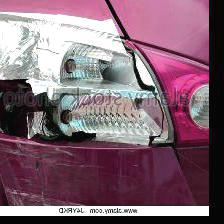head_lamp: (0, 31, 169, 156)
